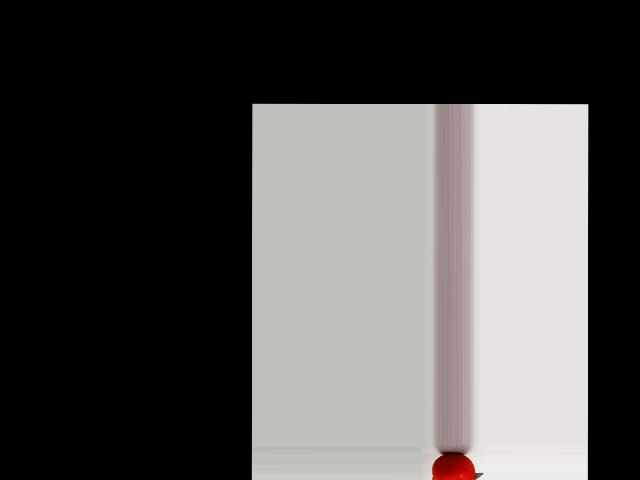tomato: (431, 452, 475, 480)
